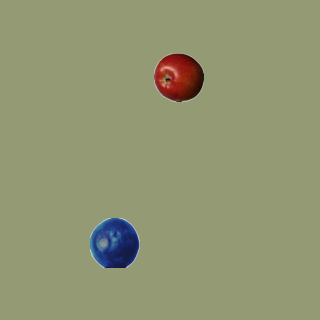Apple Braeburn: (153, 52, 203, 102)
Huckleberry: (89, 217, 139, 267)
